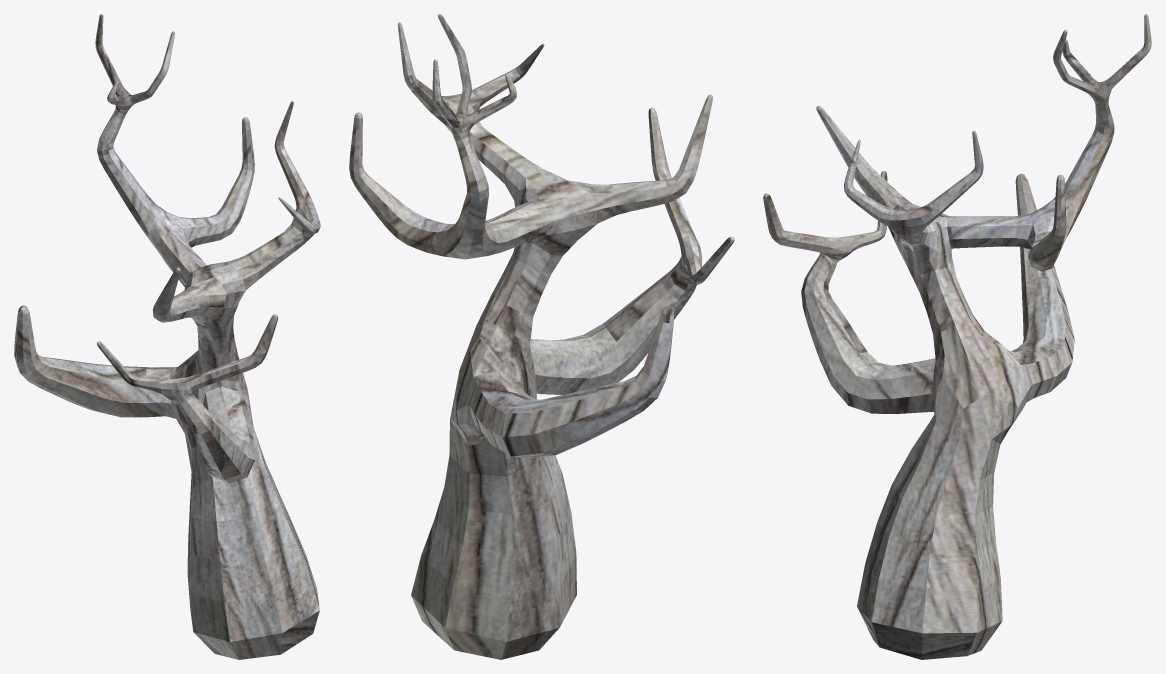
Rendered from tree1dead.fbx.
3 renders of one model, left to right at view 1: azimuth 30°, elevation 25°; view 2: azimuth 150°, elevation 25°; view 3: azimuth 270°, elevation 25°, orthographic. The views are drawn at different scales.
Visible parts, largest first — view 1: Tree1; view 2: Tree1; view 3: Tree1.
Boxes of the visible parts, <box> form: Tree1: <box>14,14,320,659</box>; Tree1: <box>349,14,734,659</box>; Tree1: <box>763,14,1151,659</box>.
Size of the model in its own units: 351 by 761 by 436.
